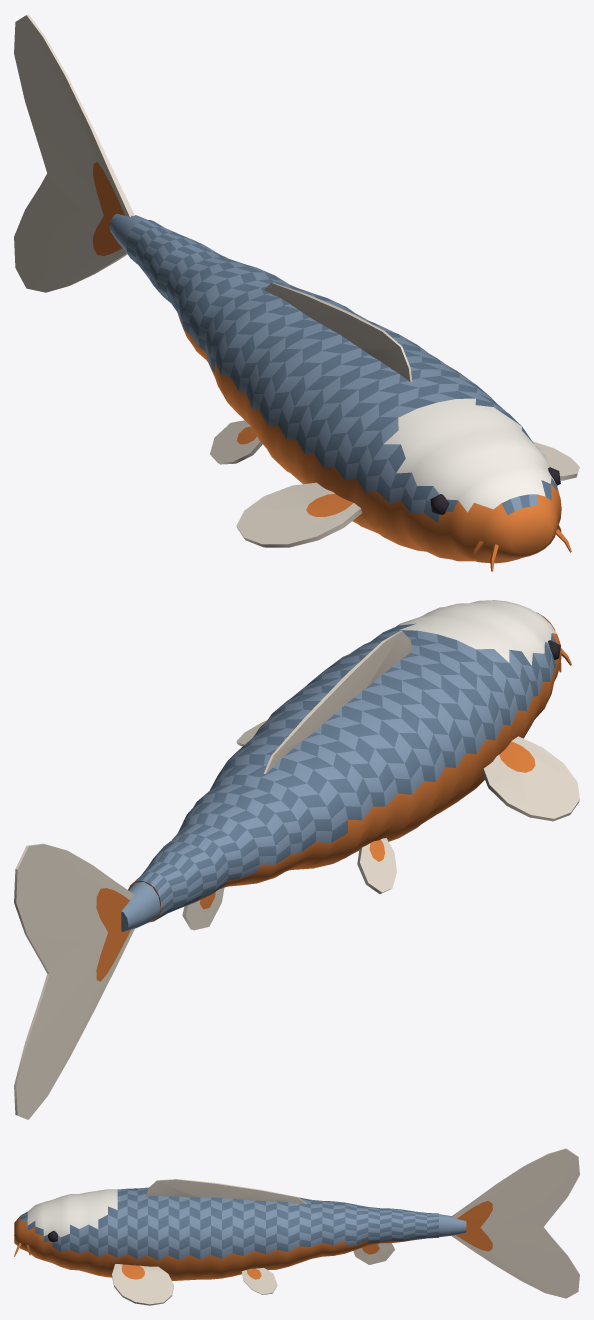
File: koi_asagi.glb
3 renders of one model, top to bottom at view 1: azimuth 30°, elevation 25°; view 2: azimuth 150°, elevation 25°; view 3: azimuth 270°, elevation 25°, orthographic. The views are drawn at different scales.
Visible parts, largest first — view 1: body, tail; view 2: body, tail; view 3: body, tail.
Boxes of the visible parts, x1,y1,x2,y2 form: body: (126, 220, 579, 571); tail: (14, 14, 147, 292); body: (128, 600, 579, 930); tail: (14, 843, 160, 1119); body: (14, 1179, 438, 1305); tail: (439, 1148, 579, 1298).
Size of the model in its own units: 0.1362 by 0.109 by 0.3733.
